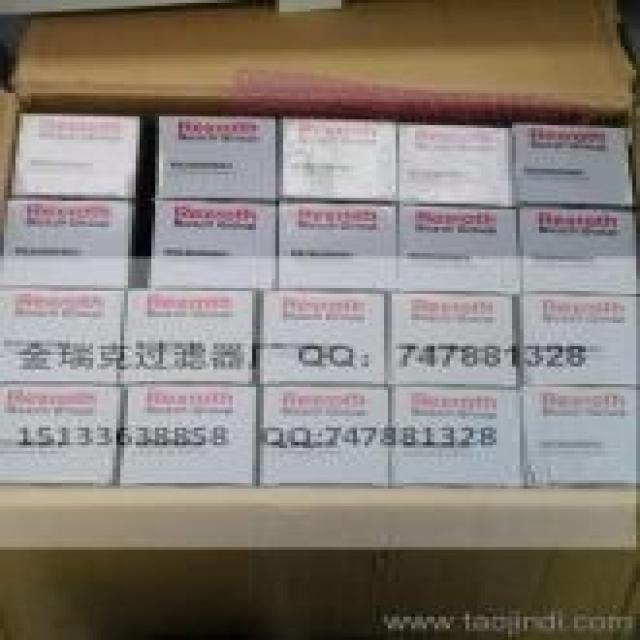box: (3, 0, 636, 637), (115, 385, 258, 486), (113, 287, 260, 384), (255, 382, 389, 486), (389, 388, 522, 489), (253, 287, 387, 386), (384, 293, 519, 388), (0, 386, 125, 486), (517, 385, 635, 488), (3, 287, 125, 384), (10, 112, 140, 201), (2, 197, 129, 287), (151, 199, 279, 287), (520, 291, 636, 387), (275, 202, 396, 292), (396, 204, 521, 290), (279, 116, 398, 204), (157, 118, 281, 202), (513, 124, 635, 207), (398, 123, 519, 206), (521, 206, 636, 291)
